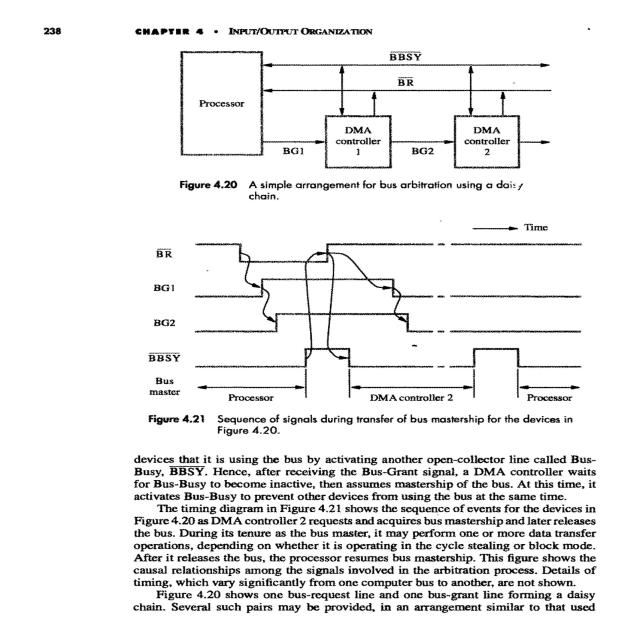diagram: (116, 217, 616, 435), (118, 43, 600, 205)
